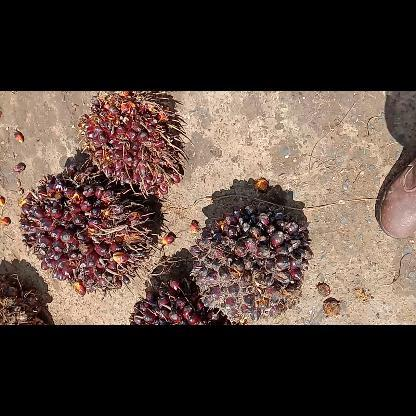Kurang masak: (19, 163, 157, 295), (190, 204, 312, 324), (80, 91, 184, 197), (130, 276, 228, 324)
